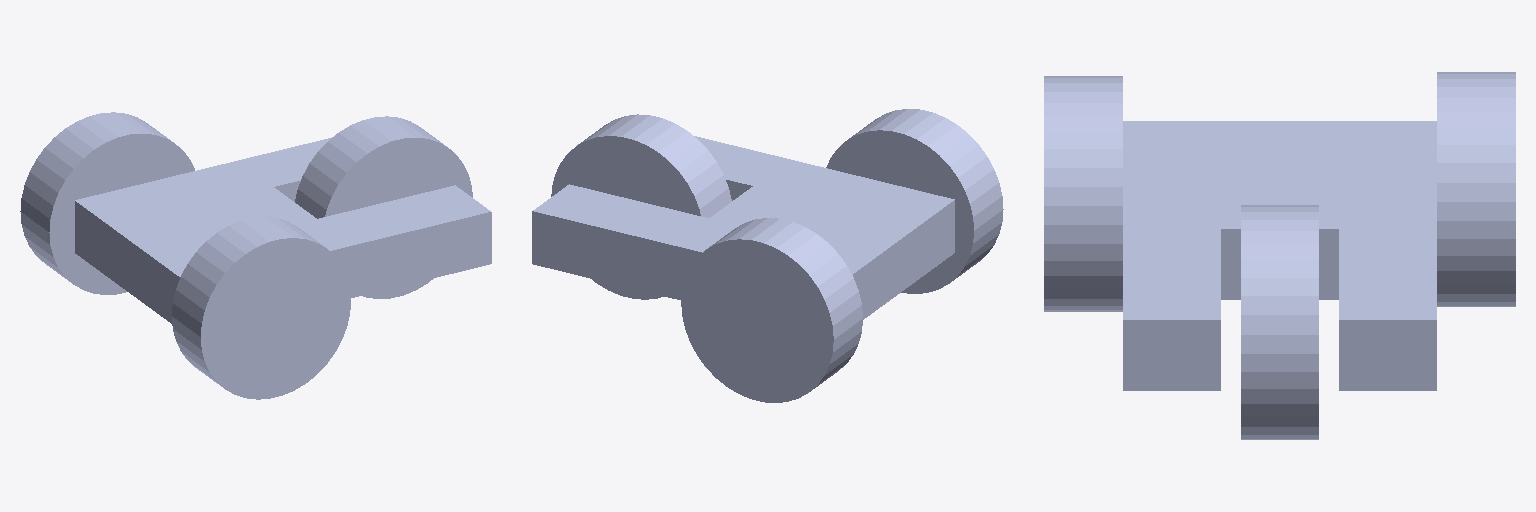
URDF robot description (Practice):
<robot
  name="Practice">
  <link
    name="Practice_chasis">
    <inertial>
      <origin
        xyz="-0.00856650943396229 -2.8900395781009E-19 1.34157652766106E-18"
        rpy="0 0 0" />
      <mass
        value="0.325692897" />
      <inertia
        ixx="0.000347646242085157"
        ixy="-7.31142091962554E-22"
        ixz="1.03605122015661E-20"
        iyy="0.000924795776955835"
        iyz="4.92492353874842E-21"
        izz="0.000612170206442097" />
    </inertial>
    <visual>
      <origin
        xyz="0 0 0"
        rpy="0 0 0" />
      <geometry>
        <mesh
          filename="package://Practice/meshes/Practice_chasis.STL" />
      </geometry>
      <material
        name="">
        <color
          rgba="0.792156862745098 0.819607843137255 0.933333333333333 1" />
      </material>
    </visual>
    <collision>
      <origin
        xyz="0 0 0"
        rpy="0 0 0" />
      <geometry>
        <mesh
          filename="package://Practice/meshes/Practice_chasis.STL" />
      </geometry>
    </collision>
  </link>
  <link
    name="Rear_wheel1">
    <inertial>
      <origin
        xyz="0 -2.25334262035869E-50 0.0127"
        rpy="0 0 0" />
      <mass
        value="0.115833329721688" />
      <inertia
        ixx="4.82637908562619E-05"
        ixy="5.09789411562385E-53"
        ixz="-7.17154562008641E-22"
        iyy="4.82637908562619E-05"
        iyz="1.08311500369441E-37"
        izz="8.40724098786498E-05" />
    </inertial>
    <visual>
      <origin
        xyz="0 0 0"
        rpy="0 0 0" />
      <geometry>
        <mesh
          filename="package://Practice/meshes/Rear_wheel1.STL" />
      </geometry>
      <material
        name="">
        <color
          rgba="0.792156862745098 0.819607843137255 0.933333333333333 1" />
      </material>
    </visual>
    <collision>
      <origin
        xyz="0 0 0"
        rpy="0 0 0" />
      <geometry>
        <mesh
          filename="package://Practice/meshes/Rear_wheel1.STL" />
      </geometry>
    </collision>
  </link>
  <joint
    name="Rear_wheel1"
    type="fixed">
    <origin
      xyz="-0.0508 0.0762 0"
      rpy="1.5708 0 0" />
    <parent
      link="Practice_chasis" />
    <child
      link="Rear_wheel1" />
    <axis
      xyz="0 0 0" />
  </joint>
  <link
    name="Rear_wheel2">
    <inertial>
      <origin
        xyz="136.5424346962 0.0381 0.0635"
        rpy="0 0 0" />
      <mass
        value="0.115833329721688" />
      <inertia
        ixx="4.82637908562619E-05"
        ixy="9.17620940812293E-53"
        ixz="-8.84858119707235E-37"
        iyy="4.82637908562619E-05"
        iyz="1.08311500369441E-37"
        izz="8.40724098786497E-05" />
    </inertial>
    <visual>
      <origin
        xyz="0 0 0"
        rpy="0 0 0" />
      <geometry>
        <mesh
          filename="package://Practice/meshes/Rear_wheel2.STL" />
      </geometry>
      <material
        name="">
        <color
          rgba="0.792156862745098 0.819607843137255 0.933333333333333 1" />
      </material>
    </visual>
    <collision>
      <origin
        xyz="0 0 0"
        rpy="0 0 0" />
      <geometry>
        <mesh
          filename="package://Practice/meshes/Rear_wheel2.STL" />
      </geometry>
    </collision>
  </link>
  <joint
    name="Rear_wheel2"
    type="fixed">
    <origin
      xyz="-136.59 0 -0.0381"
      rpy="1.5708 0 0" />
    <parent
      link="Practice_chasis" />
    <child
      link="Rear_wheel2" />
    <axis
      xyz="0 1 0" />
  </joint>
  <link
    name="Front_wheel">
    <inertial>
      <origin
        xyz="0 0 -9.14064360069615E-19"
        rpy="0 0 0" />
      <mass
        value="0.115833329721688" />
      <inertia
        ixx="4.82637908562619E-05"
        ixy="0"
        ixz="7.87000852571001E-38"
        iyy="4.82637908562619E-05"
        iyz="1.08311500369441E-37"
        izz="8.40724098786498E-05" />
    </inertial>
    <visual>
      <origin
        xyz="0 0 0"
        rpy="0 0 0" />
      <geometry>
        <mesh
          filename="package://Practice/meshes/Front_wheel.STL" />
      </geometry>
      <material
        name="">
        <color
          rgba="0.792156862745098 0.819607843137255 0.933333333333333 1" />
      </material>
    </visual>
    <collision>
      <origin
        xyz="0 0 0"
        rpy="0 0 0" />
      <geometry>
        <mesh
          filename="package://Practice/meshes/Front_wheel.STL" />
      </geometry>
    </collision>
  </link>
  <joint
    name="Front_wheel"
    type="fixed">
    <origin
      xyz="0.0508 0 0"
      rpy="1.5708 0 0" />
    <parent
      link="Practice_chasis" />
    <child
      link="Front_wheel" />
    <axis
      xyz="0 0 1" />
  </joint>
</robot>

--- Facts derived from the render (not from the file) ---
The picture shows the robot from 3 angles, left to right: view 1: azimuth 30°, elevation 25°; view 2: azimuth 150°, elevation 25°; view 3: azimuth 270°, elevation 25°; orthographic projection.
Model Practice with 4 links and 3 joints (3 fixed), rooted at Practice_chasis, posed all joints at 0.
Links seen in each view (by area): view 1: Practice_chasis, Rear_wheel2, Rear_wheel1, Front_wheel; view 2: Practice_chasis, Rear_wheel1, Rear_wheel2, Front_wheel; view 3: Practice_chasis, Rear_wheel2, Rear_wheel1, Front_wheel.
Boxes of the visible links, bbox=[...] form: Practice_chasis: bbox=[75, 138, 491, 323]; Rear_wheel2: bbox=[172, 217, 350, 399]; Rear_wheel1: bbox=[20, 112, 194, 294]; Front_wheel: bbox=[295, 116, 472, 298]; Practice_chasis: bbox=[532, 136, 954, 319]; Rear_wheel1: bbox=[681, 218, 862, 402]; Rear_wheel2: bbox=[826, 109, 1003, 293]; Front_wheel: bbox=[551, 114, 731, 299]; Practice_chasis: bbox=[1123, 121, 1436, 390]; Rear_wheel2: bbox=[1044, 76, 1122, 311]; Rear_wheel1: bbox=[1437, 72, 1515, 306]; Front_wheel: bbox=[1241, 205, 1318, 439].
Size in the robot's own frame: 0.1778 by 0.1524 by 0.0759 metres.
Meshes: 4 distinct files referenced, 4 mesh visuals loaded (4 binary STL).